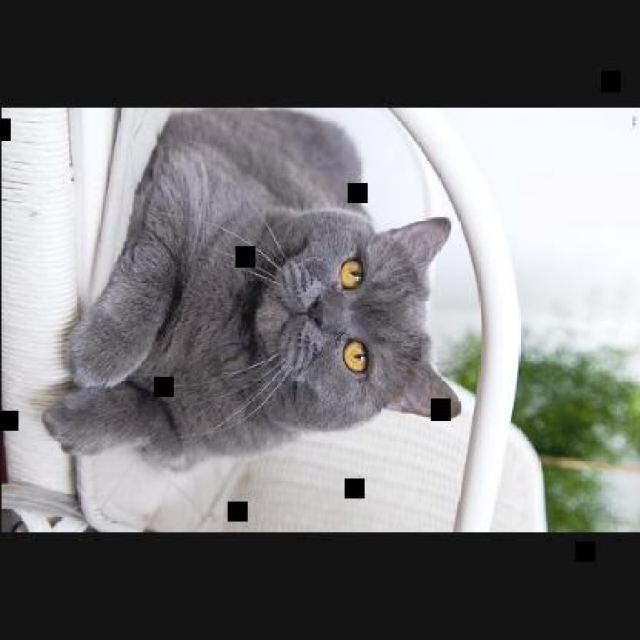unauthorized: (40, 106, 458, 471)
